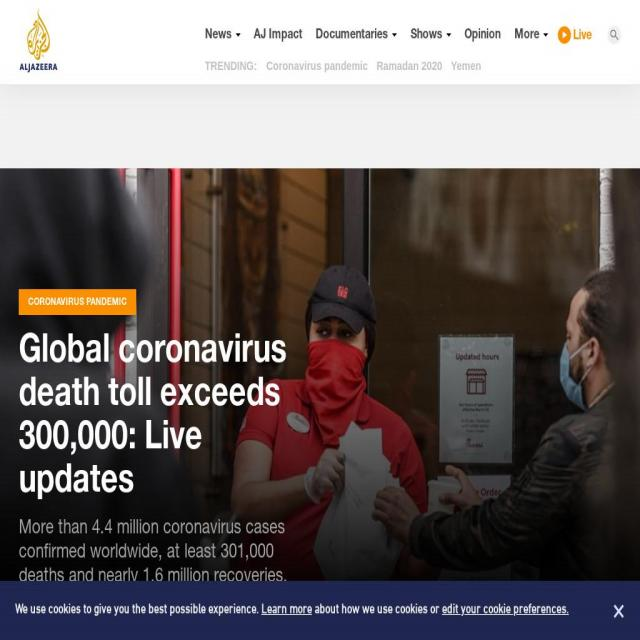navigation-links: (188, 18, 590, 48)
search: (602, 22, 626, 45)
